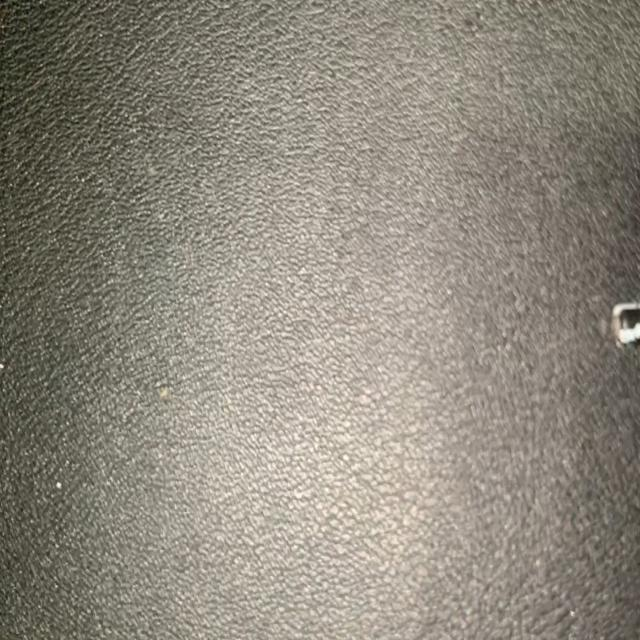capacitor: (608, 295, 640, 356)
